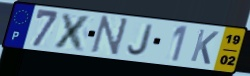1: (169, 24, 189, 64)
7: (32, 8, 60, 49)
J: (126, 23, 156, 57)
K: (188, 28, 221, 67)
N: (88, 14, 131, 58)
X: (51, 11, 95, 53)
